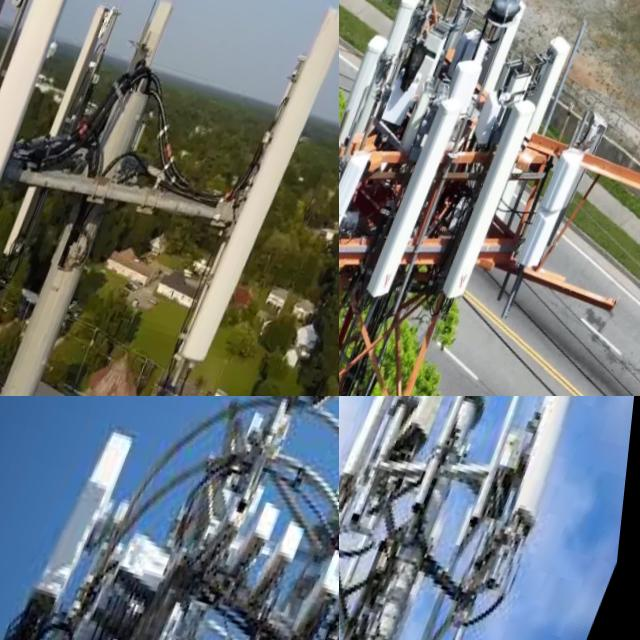GSM Antenna: (179, 0, 339, 382), (0, 0, 99, 396), (7, 0, 125, 260), (31, 409, 156, 622), (72, 0, 184, 233), (368, 81, 477, 308), (443, 92, 550, 308), (0, 0, 56, 313), (486, 396, 605, 539), (518, 134, 596, 283), (514, 20, 585, 154), (340, 396, 437, 493), (339, 27, 397, 141), (339, 143, 377, 283), (373, 0, 428, 77)
